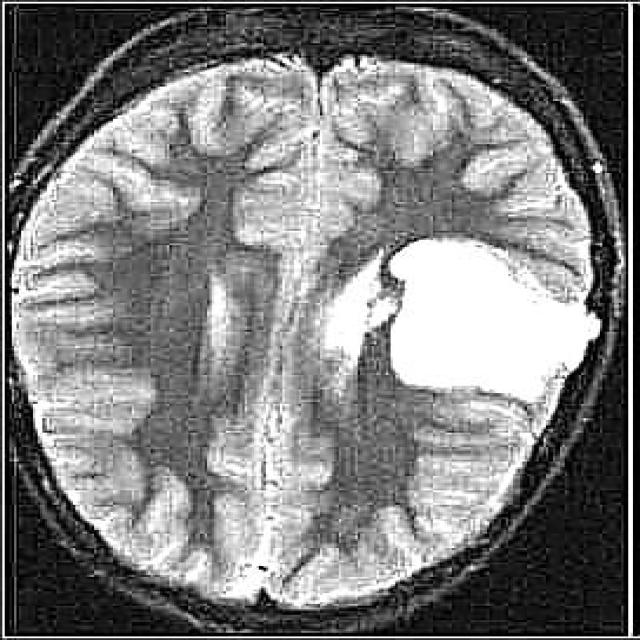Tumor-Cell: (369, 219, 576, 401)
